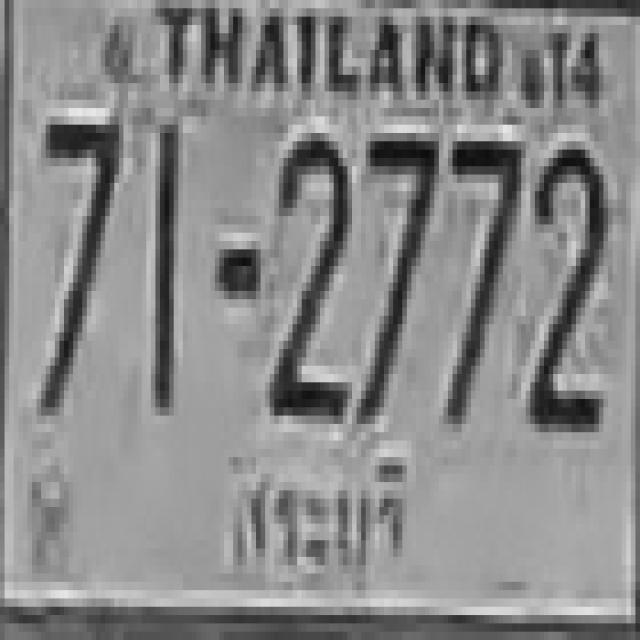1: (149, 116, 176, 408)
2: (270, 124, 347, 416), (526, 141, 603, 424)
7: (39, 108, 116, 407), (357, 124, 434, 416), (444, 133, 521, 416)
SaraBuri: (214, 446, 413, 602)
